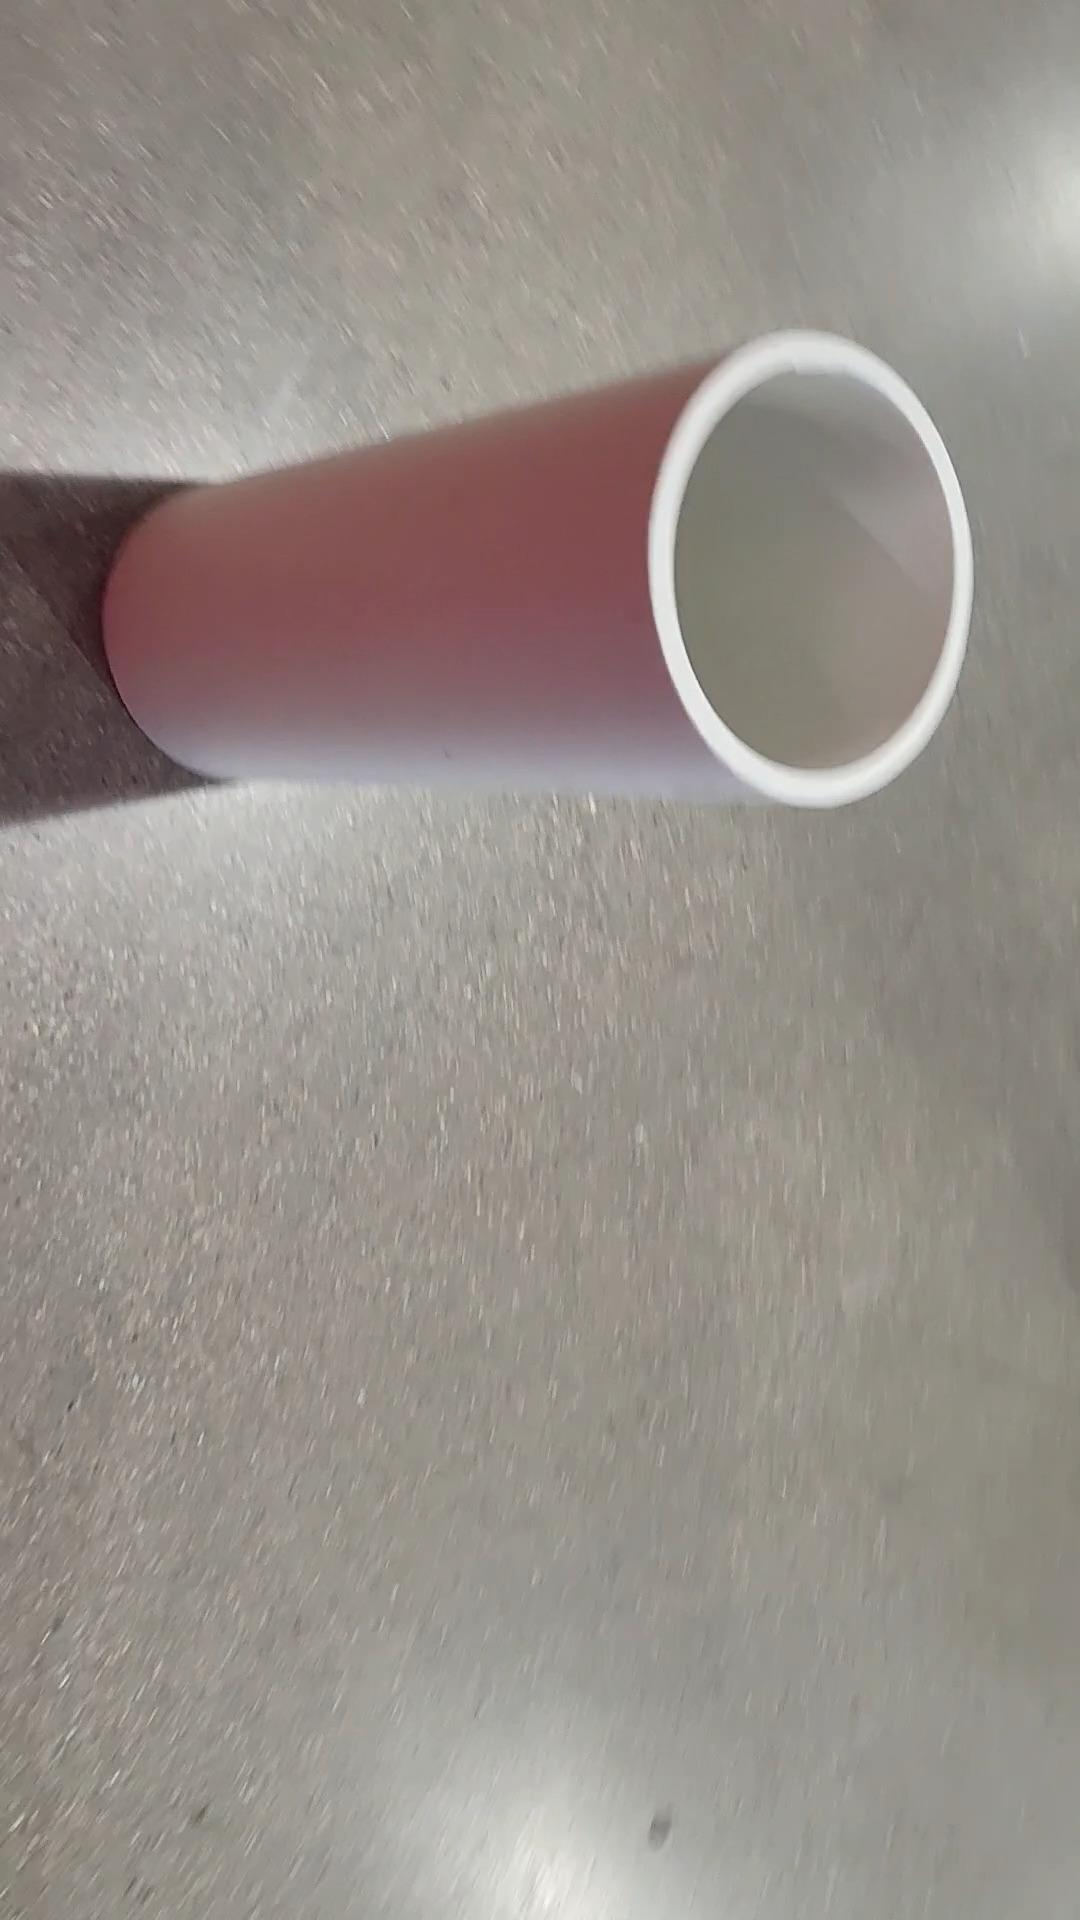coral: (108, 330, 971, 803)
